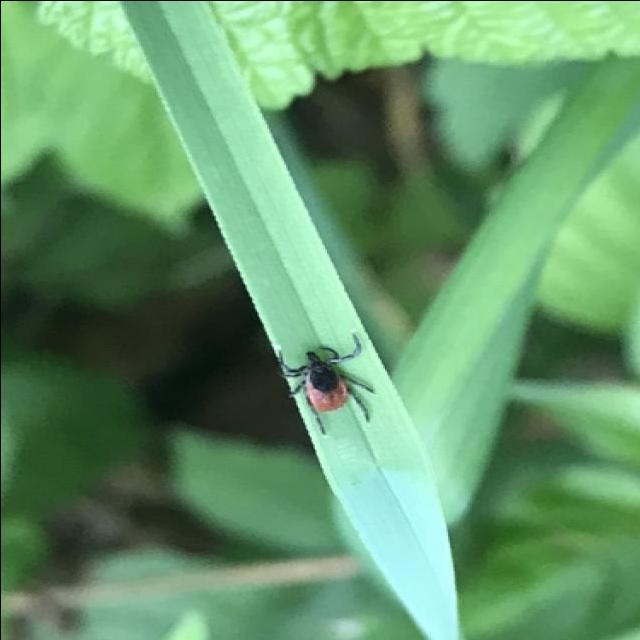Ixodes Ricinus-F: (275, 332, 372, 435)
